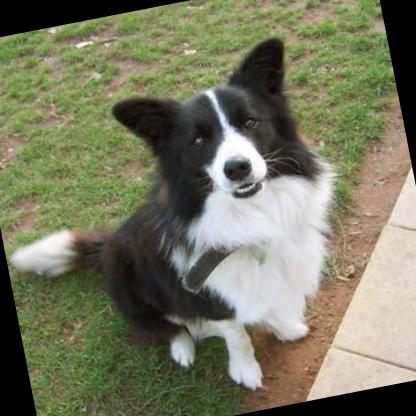collie: (0, 28, 375, 416)
